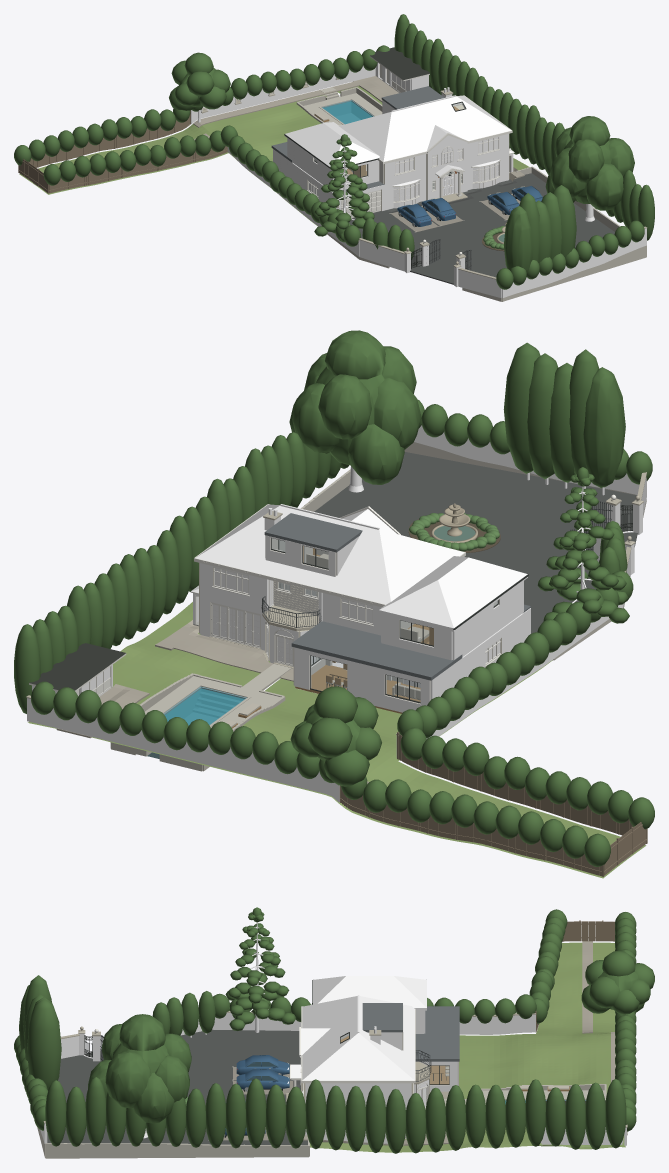
3 renders of one model, top to bottom at view 1: azimuth 30°, elevation 25°; view 2: azimuth 150°, elevation 25°; view 3: azimuth 270°, elevation 25°, orthographic. The views are drawn at different scales.
Visible parts, largest first — view 1: E1 | Circular driveway - tarmac.004, E1 | Main hipped roof, E1 | Plot ground - title plan approximate.008, Main rear garden niche wall, Mature tree foliage.085, Front south boundary wall, E1 | Subordinate side roof plane 3, Mature tree foliage.007, Mature tree foliage.006, Rear wall garden path, Mature tree foliage.089, Outbuilding flat roof (+25 smaller); view 2: E1 | Circular driveway - tarmac.004, E1 | Plot ground - title plan approximate.008, E1 | Main hipped roof, Main rear garden niche wall, E1 | Rear addition flat roof, Mature tree foliage.085, E1 | Subordinate side roof plane 3, Mature tree foliage.089, Mature tree foliage.088, Mature tree foliage.003, Mature tree foliage.004, Mature tree foliage.005 (+40 smaller); view 3: E1 | Plot ground - title plan approximate.008, E1 | Main hipped roof, E1 | Circular driveway - tarmac.004, Mature tree foliage.089, E1 | Rear addition flat roof, Western house boundary wall, Mature tree foliage.008, E1 | Subordinate side roof plane 1, Mature tree foliage.009, Mature tree foliage.001, Boundary hedge, Boundary hedge.018 (+50 smaller).
Boxes of the visible parts, x1,y1,x2,y2 form: E1 | Circular driveway - tarmac.004: (349,173,614,284); E1 | Main hipped roof: (339,95,511,161); E1 | Plot ground - title plan approximate.008: (19,86,529,226); Main rear garden niche wall: (191,65,375,124); Mature tree foliage.085: (503,206,533,277); Front south boundary wall: (502,228,646,298); E1 | Subordinate side roof plane 3: (285,123,341,170); Mature tree foliage.007: (585,164,623,210); Mature tree foliage.006: (568,139,604,182); Rear wall garden path: (193,81,359,127); Mature tree foliage.089: (553,185,576,258); Outbuilding flat roof: (369,47,429,81); E1 | Circular driveway - tarmac.004: (314,452,637,633); E1 | Plot ground - title plan approximate.008: (28,602,646,878); E1 | Main hipped roof: (196,504,464,604); Main rear garden niche wall: (27,698,339,802); E1 | Rear addition flat roof: (291,621,462,680); Mature tree foliage.085: (583,367,625,488); E1 | Subordinate side roof plane 3: (438,557,527,631); Mature tree foliage.089: (503,342,540,473); Mature tree foliage.088: (527,353,558,479); Mature tree foliage.003: (318,374,371,439); Mature tree foliage.004: (348,424,404,484); Mature tree foliage.005: (374,378,421,449); E1 | Plot ground - title plan approximate.008: (310,942,625,1152); E1 | Main hipped roof: (302,996,414,1080); E1 | Circular driveway - tarmac.004: (47,1029,307,1145); Mature tree foliage.089: (27,998,61,1090); E1 | Rear addition flat roof: (415,1006,459,1061); Western house boundary wall: (212,1013,535,1034); Mature tree foliage.008: (105,1051,151,1108); E1 | Subordinate side roof plane 1: (318,976,426,1010); Mature tree foliage.009: (119,1014,165,1051); Mature tree foliage.001: (133,1073,174,1123); Boundary hedge: (605,1079,626,1148); Boundary hedge.018: (245,1078,266,1148).
Size of the model in its own units: 45.93 by 13.34 by 53.16.
